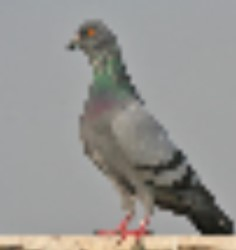pigeon: (63, 17, 234, 246)
